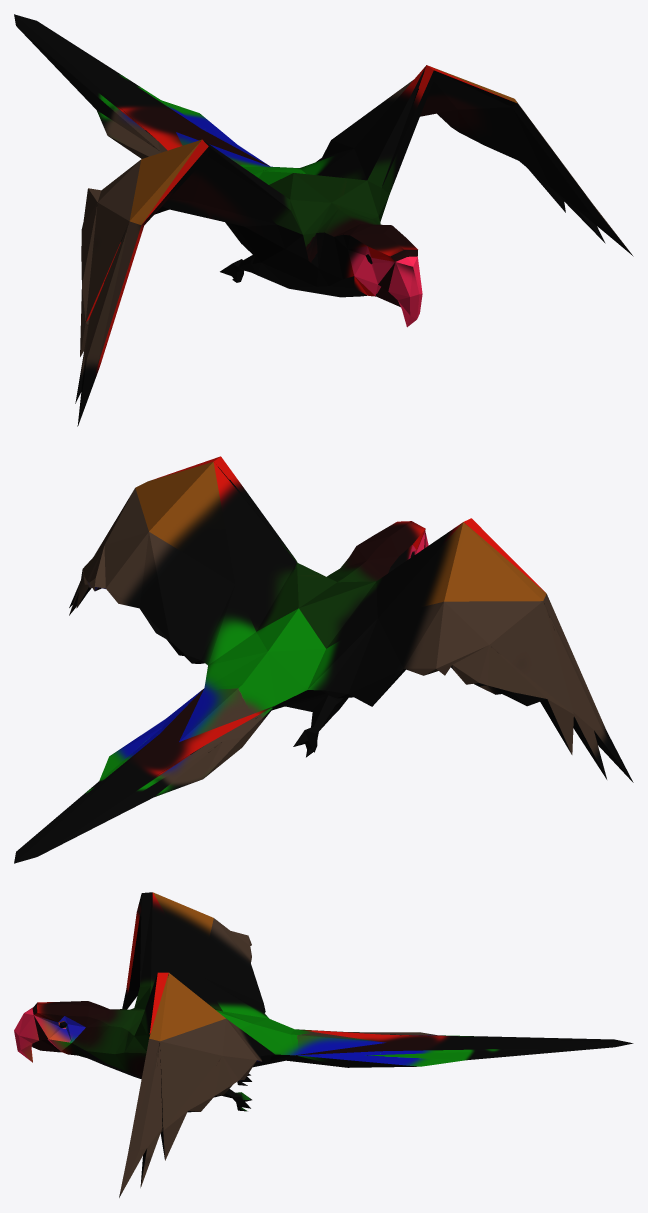
The model's file is aaa.glb.
3 renders of one model, top to bottom at view 1: azimuth 30°, elevation 25°; view 2: azimuth 150°, elevation 25°; view 3: azimuth 270°, elevation 25°, orthographic. The views are drawn at different scales.
Visible parts, largest first — view 1: Object_0; view 2: Object_0; view 3: Object_0.
Boxes of the visible parts, x1,y1,x2,y2 form: Object_0: [14, 14, 633, 426]; Object_0: [14, 456, 633, 863]; Object_0: [14, 892, 633, 1197].
Bounding box in the file's own units: 2.38 × 1.01 × 3.01.
1 material, 1 textured.
